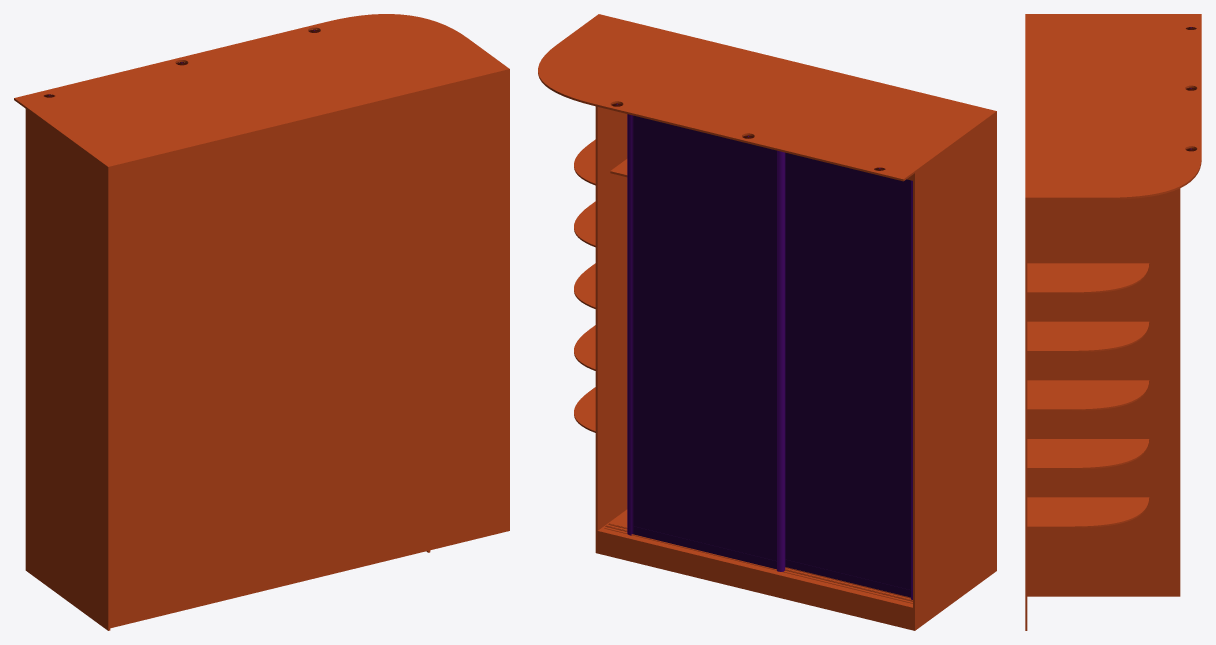
File: Wardrobe.FBX
The picture shows the model from 3 angles, left to right: view 1: azimuth 30°, elevation 25°; view 2: azimuth 150°, elevation 25°; view 3: azimuth 270°, elevation 25°; orthographic projection. The views are drawn at different scales.
Visible parts, largest first — view 1: Box005, Box002, Box026; view 2: Box012, Box029, Box002, Box026, Box008, Box009, Line001, Line002, Box006, Box005, Box027, Box010 (+7 smaller); view 3: Box008, Box026, Box023, Box021, Box024, Box025, Box022, Box005, Box004.
Part boxes in pixels (x1,y1,x2,y2): Box005: (107, 68, 509, 628); Box002: (25, 109, 110, 630); Box026: (14, 14, 508, 168); Box012: (633, 115, 776, 560); Box029: (785, 152, 910, 589); Box002: (913, 114, 996, 630); Box026: (538, 15, 995, 181); Box008: (595, 106, 627, 530); Box009: (595, 532, 914, 630); Line001: (777, 150, 785, 571); Line002: (627, 114, 633, 535); Box006: (595, 509, 993, 609); Box005: (598, 14, 996, 569); Box027: (633, 526, 776, 569); Box010: (604, 523, 912, 603); Box008: (1027, 188, 1180, 596); Box026: (1025, 14, 1201, 199); Box023: (1027, 321, 1149, 352); Box021: (1027, 497, 1149, 527); Box024: (1027, 380, 1149, 410); Box025: (1027, 263, 1149, 293); Box022: (1027, 439, 1149, 469); Box005: (1025, 14, 1027, 630); Box004: (1178, 14, 1180, 161).
Bounding box in the file's own units: 513 × 567 × 208.
